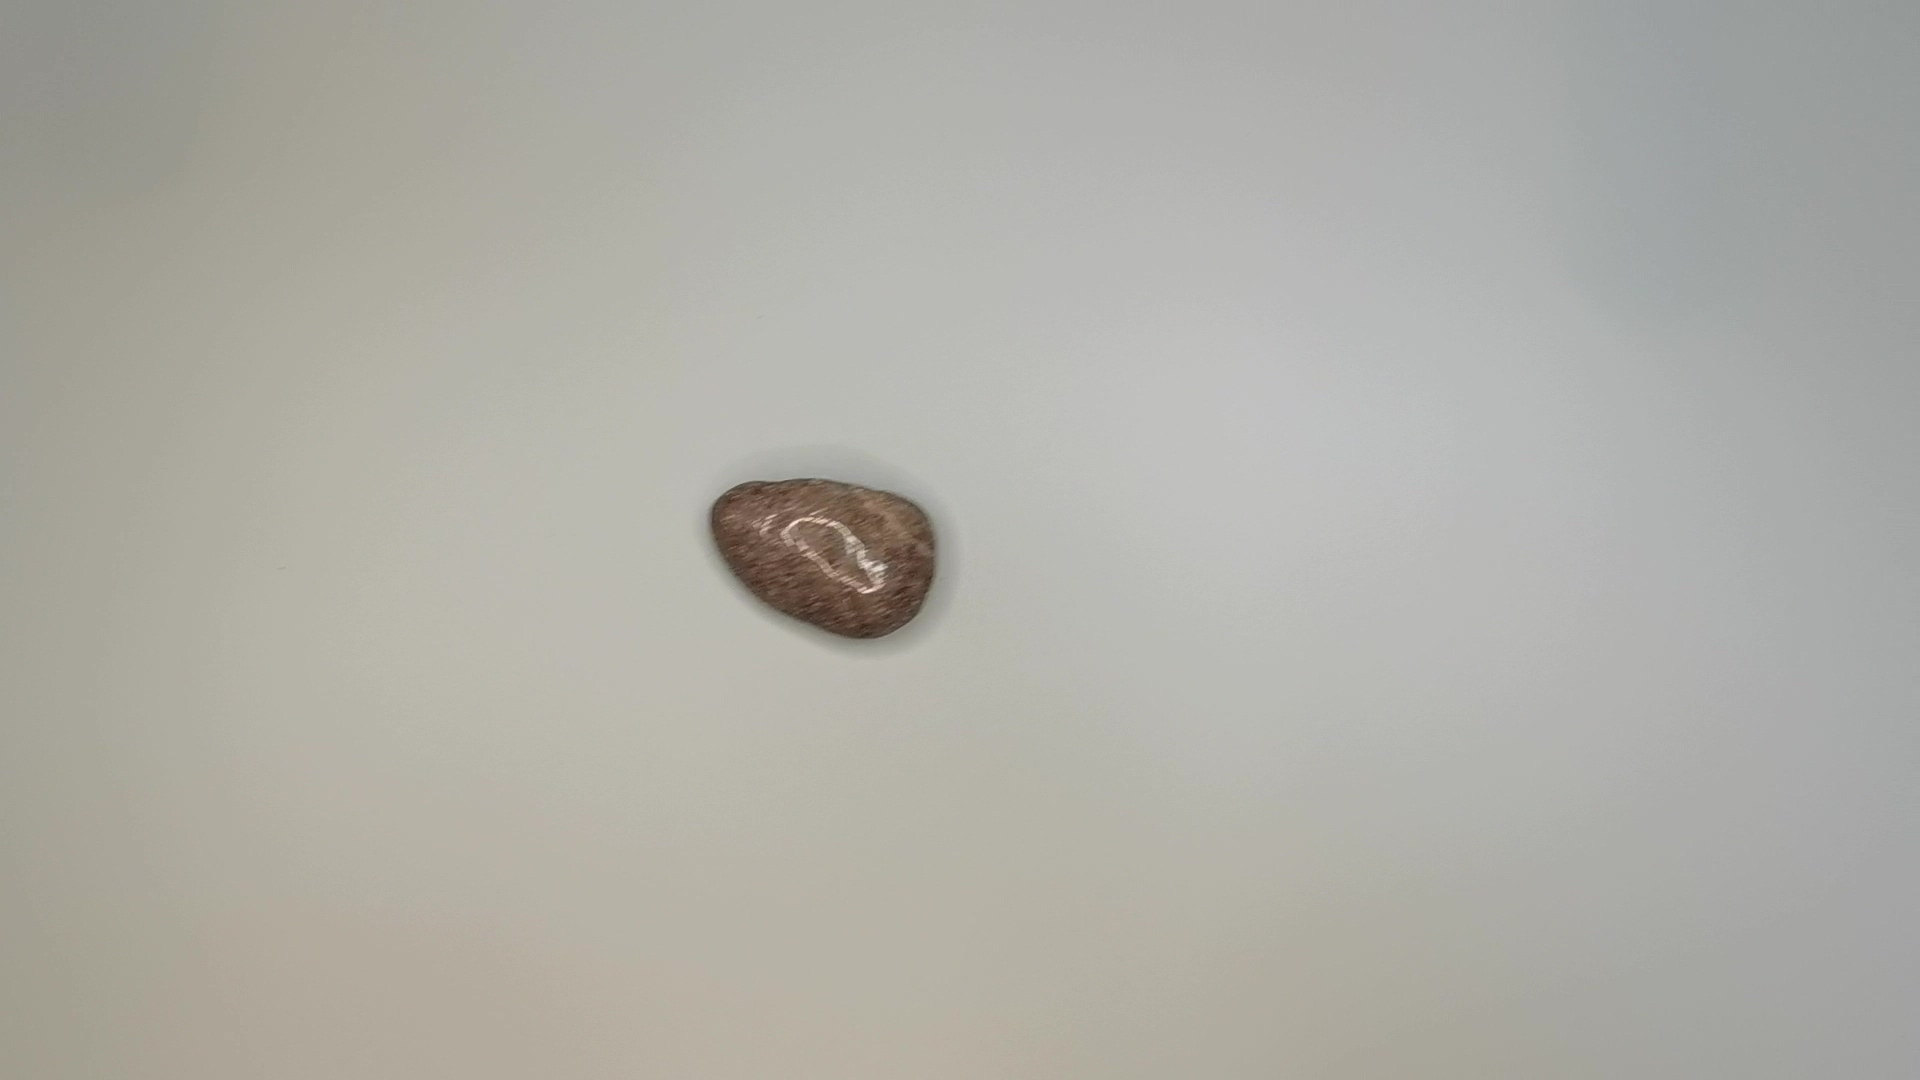ceramic: (703, 472, 938, 645)
